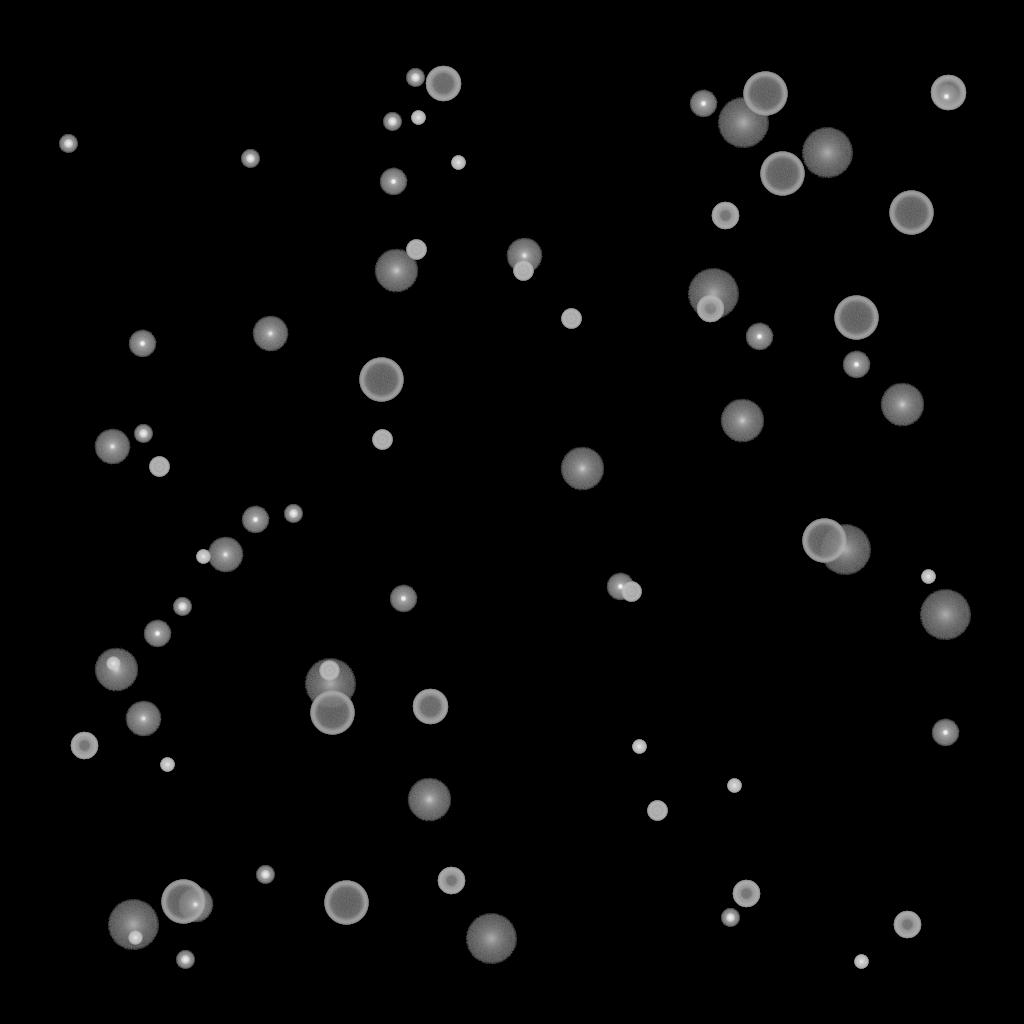depth:-10: (128, 330, 156, 358), (379, 168, 407, 196), (931, 719, 959, 747), (689, 90, 717, 118), (842, 351, 870, 379), (389, 585, 417, 613), (932, 83, 960, 111), (745, 323, 773, 351), (143, 620, 171, 648), (241, 506, 269, 534), (606, 573, 634, 601)
depth:-20: (176, 951, 194, 969), (406, 69, 424, 87), (256, 866, 274, 884), (134, 425, 152, 443), (284, 505, 302, 523), (173, 598, 191, 616), (241, 150, 259, 168), (721, 909, 739, 927), (383, 113, 401, 131), (59, 135, 77, 153)
depth:-30: (106, 657, 120, 671), (128, 931, 142, 945), (196, 550, 210, 564), (451, 156, 465, 170), (854, 955, 868, 969), (160, 758, 174, 772), (632, 740, 646, 754), (921, 570, 935, 584), (411, 111, 425, 125), (727, 779, 741, 793)
depth:-40: (372, 430, 392, 450), (513, 261, 533, 281), (647, 801, 667, 821), (319, 661, 339, 681), (406, 240, 426, 260), (621, 582, 641, 602), (149, 457, 169, 477), (561, 309, 581, 329)
depth:-50: (732, 880, 760, 908), (70, 732, 98, 760), (711, 202, 739, 230), (696, 295, 724, 323), (437, 867, 465, 895), (893, 911, 921, 939)
depth:-60: (412, 689, 448, 725), (425, 66, 461, 102), (930, 75, 966, 111)
depth:-70: (760, 152, 804, 196), (889, 191, 933, 235), (359, 358, 403, 402), (310, 691, 354, 735), (324, 881, 368, 925), (802, 519, 846, 563), (161, 880, 205, 924), (743, 72, 787, 116), (834, 296, 878, 340)
depth:0: (94, 429, 130, 465), (177, 887, 213, 923), (125, 701, 161, 737), (252, 316, 288, 352), (506, 238, 542, 274), (207, 537, 243, 573)
depth:10: (560, 447, 604, 491), (720, 399, 764, 443), (407, 778, 451, 822), (374, 249, 418, 293), (880, 383, 924, 427), (94, 648, 138, 692)
depth:20: (717, 98, 769, 148), (465, 914, 517, 964), (304, 659, 356, 709), (801, 128, 853, 178), (107, 900, 159, 950), (687, 269, 739, 319), (919, 590, 971, 640), (819, 525, 871, 575)
